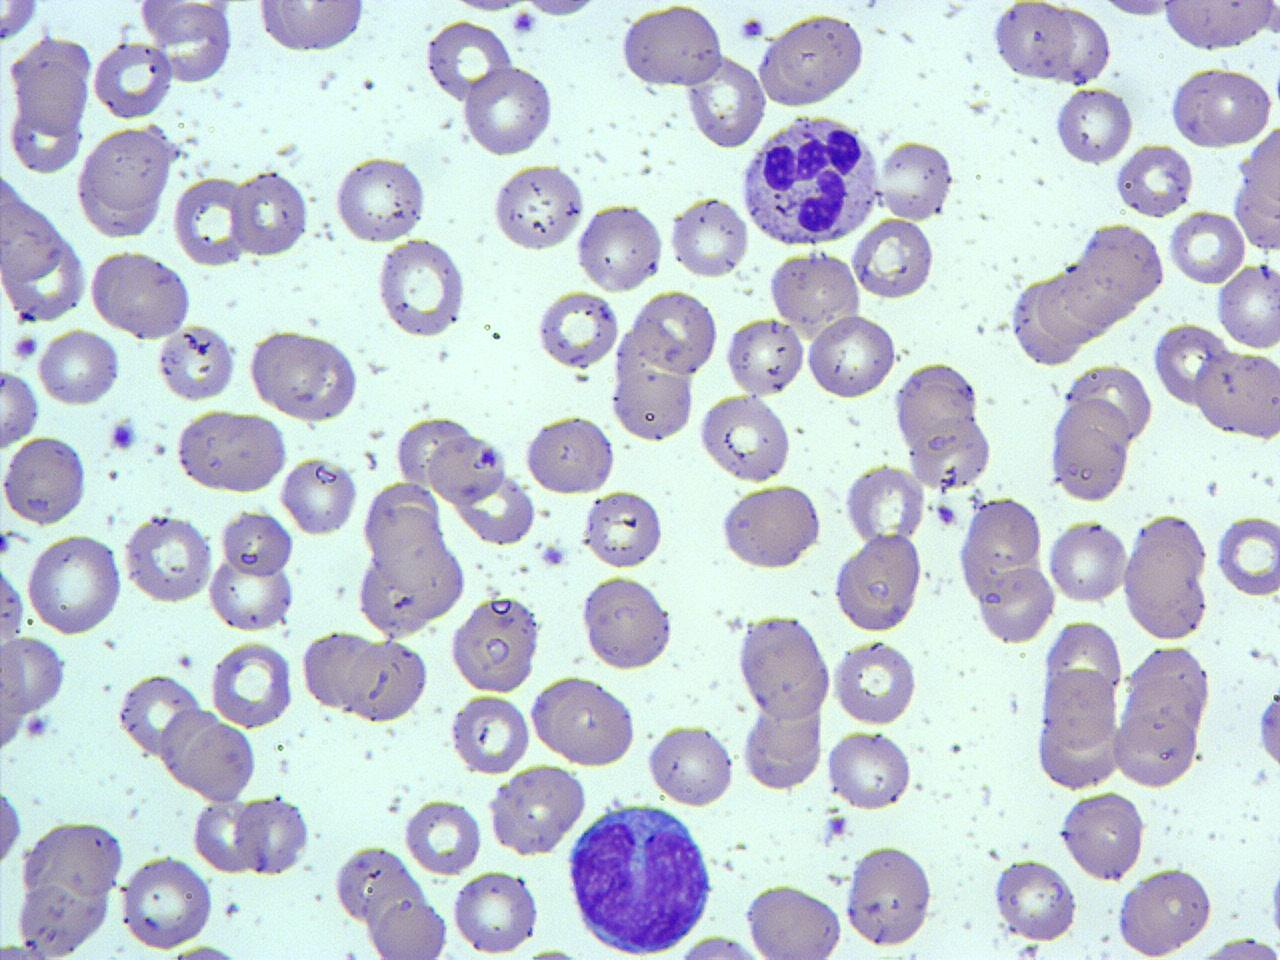Platelets: (108, 416, 137, 452), (10, 333, 39, 363), (22, 712, 52, 740), (738, 14, 768, 42), (510, 7, 538, 35), (932, 500, 959, 529), (538, 543, 568, 567), (0, 527, 14, 559), (338, 944, 361, 960), (1061, 386, 1073, 402)
RBC: (12, 817, 127, 955), (1119, 508, 1211, 644), (353, 536, 467, 640), (75, 123, 173, 242), (734, 612, 833, 722), (758, 9, 868, 107), (529, 674, 638, 770), (24, 533, 124, 636), (842, 844, 936, 951), (174, 408, 288, 497), (717, 482, 825, 574), (374, 236, 470, 340), (578, 573, 676, 673), (117, 854, 216, 952), (86, 248, 191, 339), (618, 3, 726, 92), (447, 594, 542, 695), (830, 532, 924, 634), (957, 496, 1045, 604), (1047, 396, 1133, 505), (461, 63, 557, 158), (696, 390, 794, 484), (489, 162, 587, 256), (362, 477, 447, 584), (1116, 866, 1214, 958), (333, 153, 429, 245), (120, 513, 215, 606), (1057, 789, 1147, 886), (574, 199, 666, 293), (738, 694, 824, 794), (682, 50, 768, 151), (1175, 64, 1273, 151), (806, 312, 898, 403), (1032, 696, 1122, 790), (1, 228, 89, 324), (892, 358, 982, 451), (9, 37, 92, 137), (1, 434, 88, 528), (1116, 652, 1206, 742), (424, 18, 516, 107), (208, 638, 295, 731), (450, 868, 541, 956), (766, 248, 862, 332), (743, 882, 846, 960), (522, 414, 618, 497), (630, 288, 720, 376), (1193, 349, 1279, 441), (644, 722, 734, 809), (1076, 219, 1168, 304), (824, 726, 912, 814), (848, 215, 936, 302), (831, 638, 918, 726), (345, 636, 429, 726), (992, 857, 1078, 944), (1046, 516, 1130, 606), (278, 333, 361, 423), (206, 552, 296, 633), (1010, 276, 1089, 370), (1110, 707, 1200, 788), (722, 314, 806, 399), (116, 670, 200, 756), (534, 288, 622, 371), (230, 168, 309, 259), (278, 452, 361, 538), (1231, 117, 1280, 261), (171, 175, 248, 268), (90, 38, 175, 121), (34, 326, 121, 407), (669, 194, 750, 281), (875, 136, 955, 224), (608, 364, 696, 444), (248, 326, 326, 416), (447, 692, 530, 776), (844, 462, 928, 544), (581, 488, 664, 570), (906, 414, 994, 492), (992, 1, 1074, 83), (155, 322, 238, 403), (1053, 84, 1133, 168), (975, 564, 1055, 646), (1152, 321, 1230, 406), (0, 188, 68, 285), (453, 468, 536, 547), (1113, 140, 1197, 218), (1043, 664, 1119, 750), (1167, 206, 1247, 286), (401, 796, 481, 876), (1158, 0, 1276, 54), (254, 0, 367, 55), (300, 628, 376, 711), (235, 794, 310, 876), (1214, 260, 1280, 353), (156, 5, 234, 83), (393, 414, 472, 490), (186, 721, 256, 806), (428, 433, 507, 506), (1214, 512, 1280, 600), (218, 506, 295, 580), (367, 893, 450, 960), (158, 705, 223, 790), (1047, 6, 1113, 88), (191, 797, 261, 873), (2, 635, 68, 714), (0, 640, 33, 751), (0, 365, 42, 451), (669, 932, 776, 960), (0, 556, 26, 654), (1254, 682, 1280, 776), (1193, 934, 1280, 960), (0, 782, 24, 874), (1094, 0, 1186, 22), (516, 0, 606, 21), (0, 0, 39, 44)
WBC: (562, 798, 718, 956), (737, 111, 883, 250), (13, 816, 130, 954), (1120, 510, 1212, 642), (484, 761, 590, 861), (718, 480, 827, 574), (534, 674, 638, 766), (181, 411, 289, 498), (119, 513, 215, 609), (91, 247, 193, 334), (835, 538, 923, 636), (1173, 66, 1275, 149), (645, 718, 737, 808), (632, 286, 720, 374), (536, 288, 624, 372), (1232, 115, 1280, 262), (1159, 0, 1279, 53), (253, 0, 368, 55), (1265, 841, 1280, 960)
